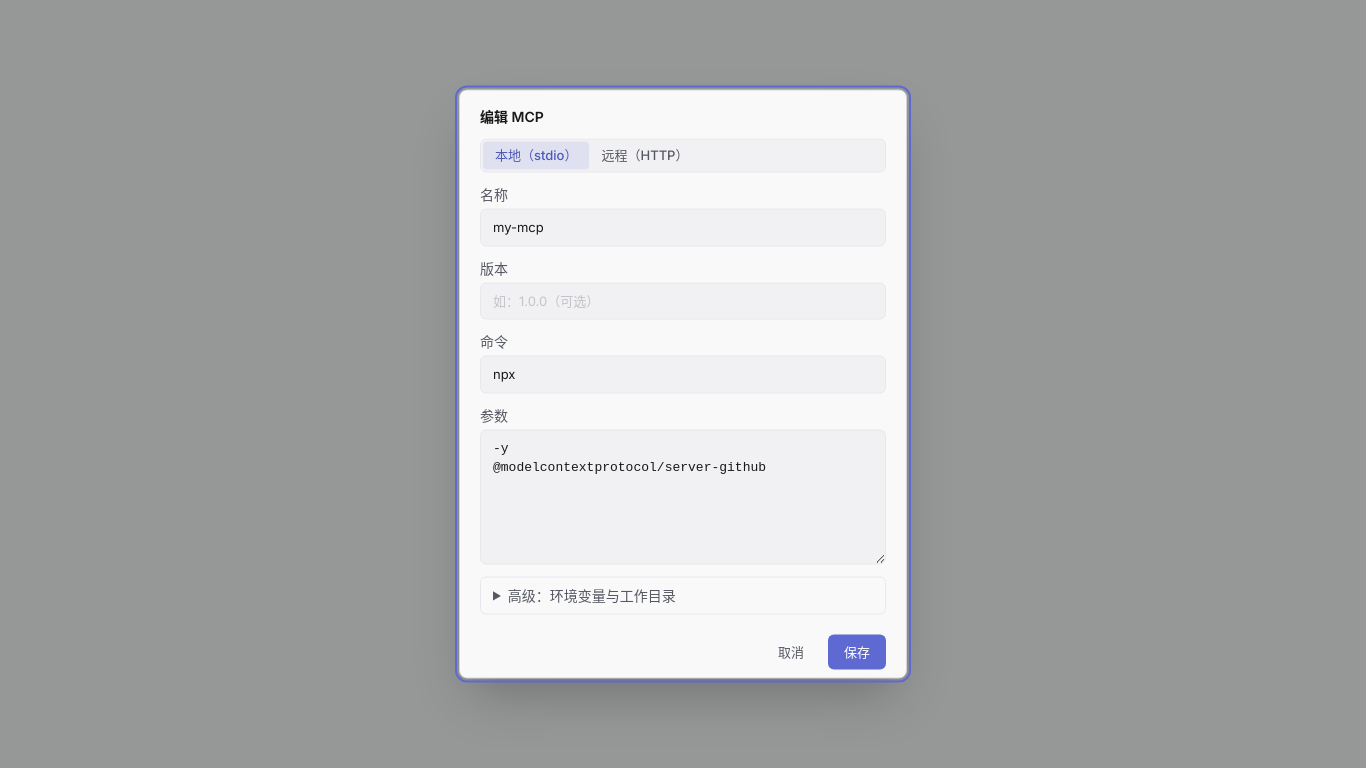
Test: RegisterMcpDialog — 编辑模式（P2.5 Task 3） › edit stdio 条目：mount 拉取视图并全字段预填（命令/参数按行 join/env 行/version 缺省留空/cwd；传输态 stdio）
Expected: the field labelled "命令" holds "npx", [480,356,886,393]
Expected: the field labelled "版本" is empty, [480,282,886,320]
// 高级区折叠：展开后断言 env 行与 cwd
Click the heading "高级：环境变量与工作目录".
click(592, 594)  # box [508,586,676,603]
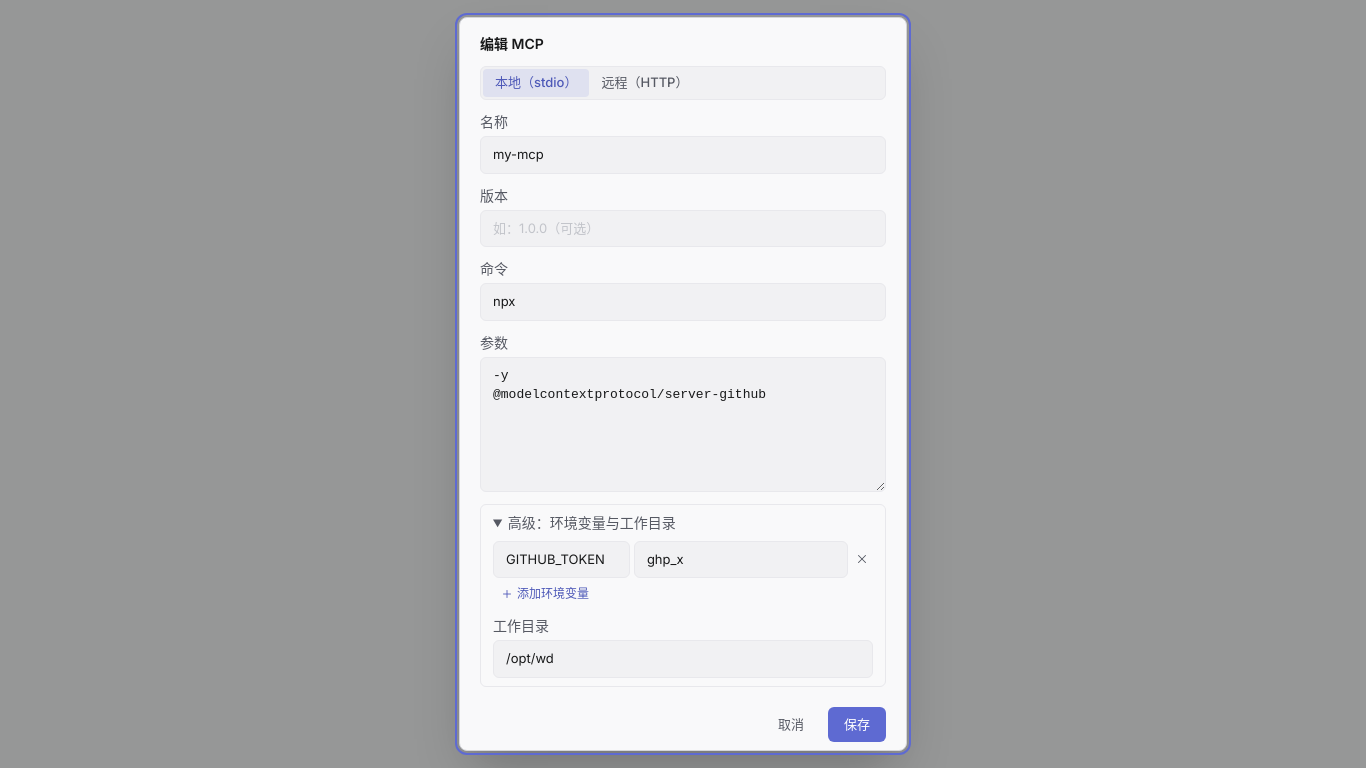
Expected: the field named "环境变量名 1" holds "GITHUB_TOKEN", [493,540,630,578]
Expected: the field named "环境变量值 1" holds "ghp_x", [634,540,848,578]
Expected: the field labelled "工作目录" holds "/opt/wd", [493,640,873,678]
